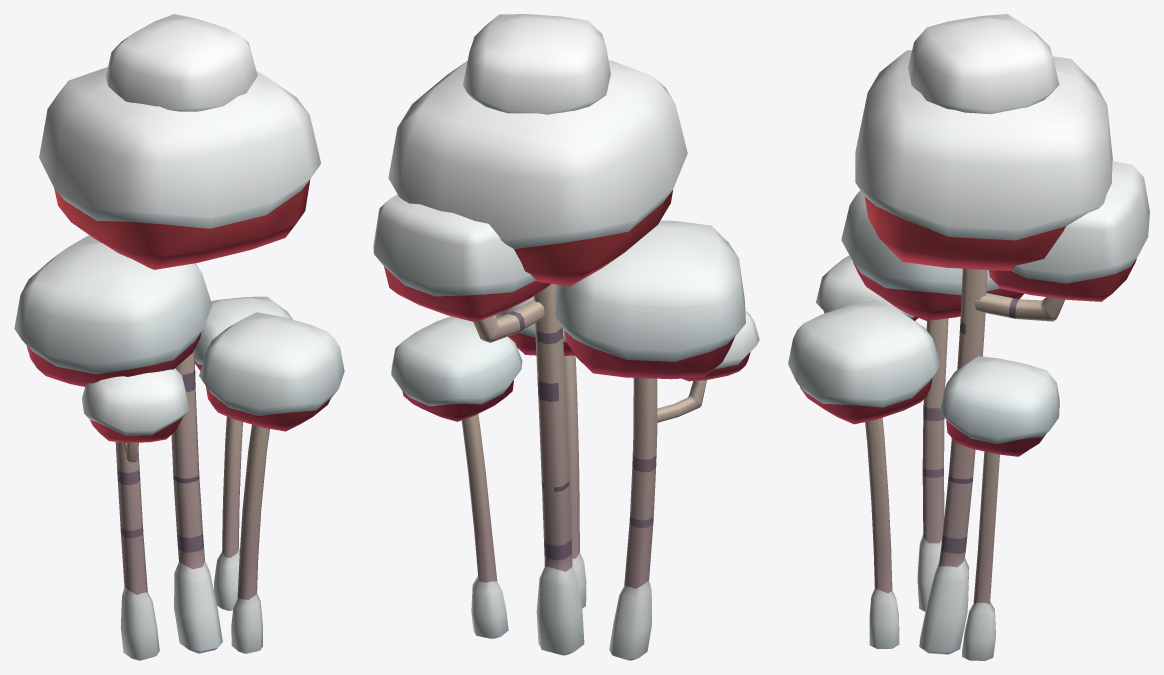
Rendered from birch_tree_SC_07_snow.fbx.
3 views of the same model, side by side, from view 1: azimuth 30°, elevation 25°; view 2: azimuth 150°, elevation 25°; view 3: azimuth 270°, elevation 25° (orthographic). The views are drawn at different scales.
Visible parts, largest first — view 1: birch_tree_SC_07_snow; view 2: birch_tree_SC_07_snow; view 3: birch_tree_SC_07_snow.
Part boxes in pixels (<box>): birch_tree_SC_07_snow: <box>14,14,344,660</box>; birch_tree_SC_07_snow: <box>373,14,759,660</box>; birch_tree_SC_07_snow: <box>788,14,1149,660</box>.
Bounding box in the file's own units: 345 × 678 × 358.
Materials: 1 (1 with a texture image).
